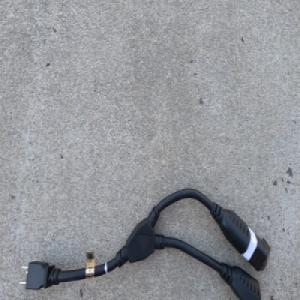Wire: (18, 188, 271, 300)
